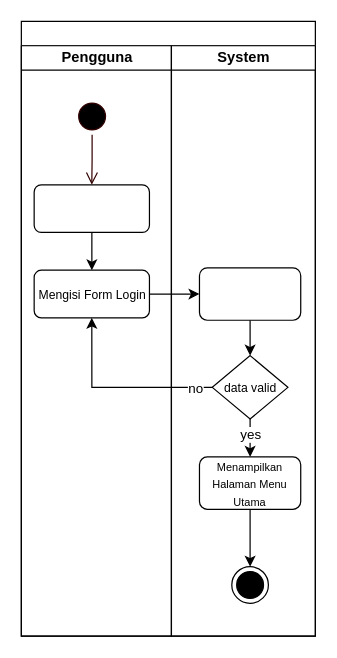
Image size: 337x658. Some labels were removed from this diagram. The centre of each missing label's shape, as x and y in pixels:
cek data Akun: pixel 249 293
Masuk ke halaman login: pixel 91 208
